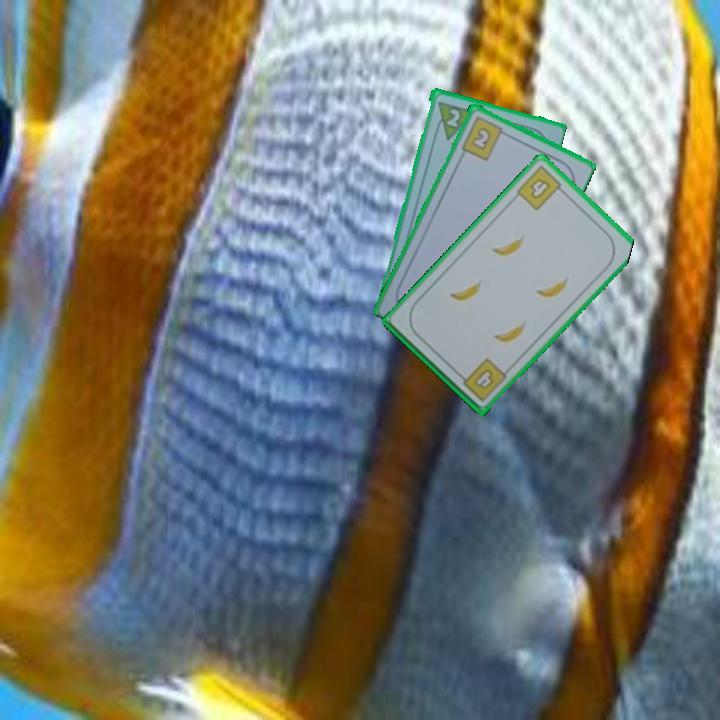2b: (458, 112, 510, 163)
2p: (430, 97, 476, 142)
4b: (513, 162, 568, 213), (455, 354, 510, 404)
